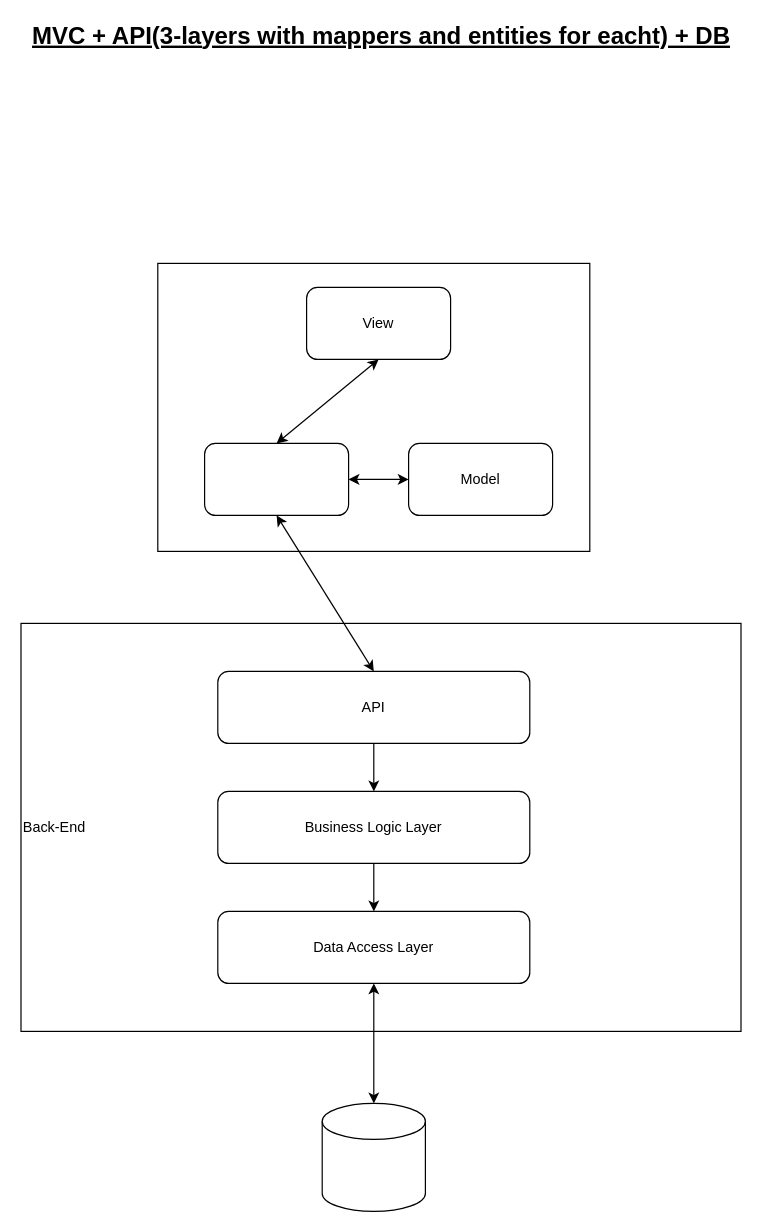
This 762x1232 diagram has some shape labels left out. The shapes that lost their labels are listed below. From the top down, each one's box as (x1, y1, x2, y2) in pixels, then its label:
(157, 262, 590, 551): Front-End
(203, 442, 349, 515): Controller
(321, 1102, 425, 1211): DB SQL
